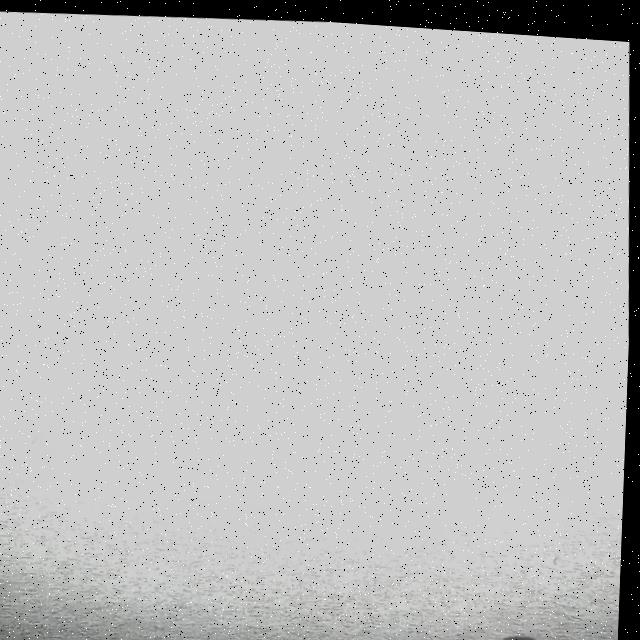Empty: (0, 13, 630, 621)
